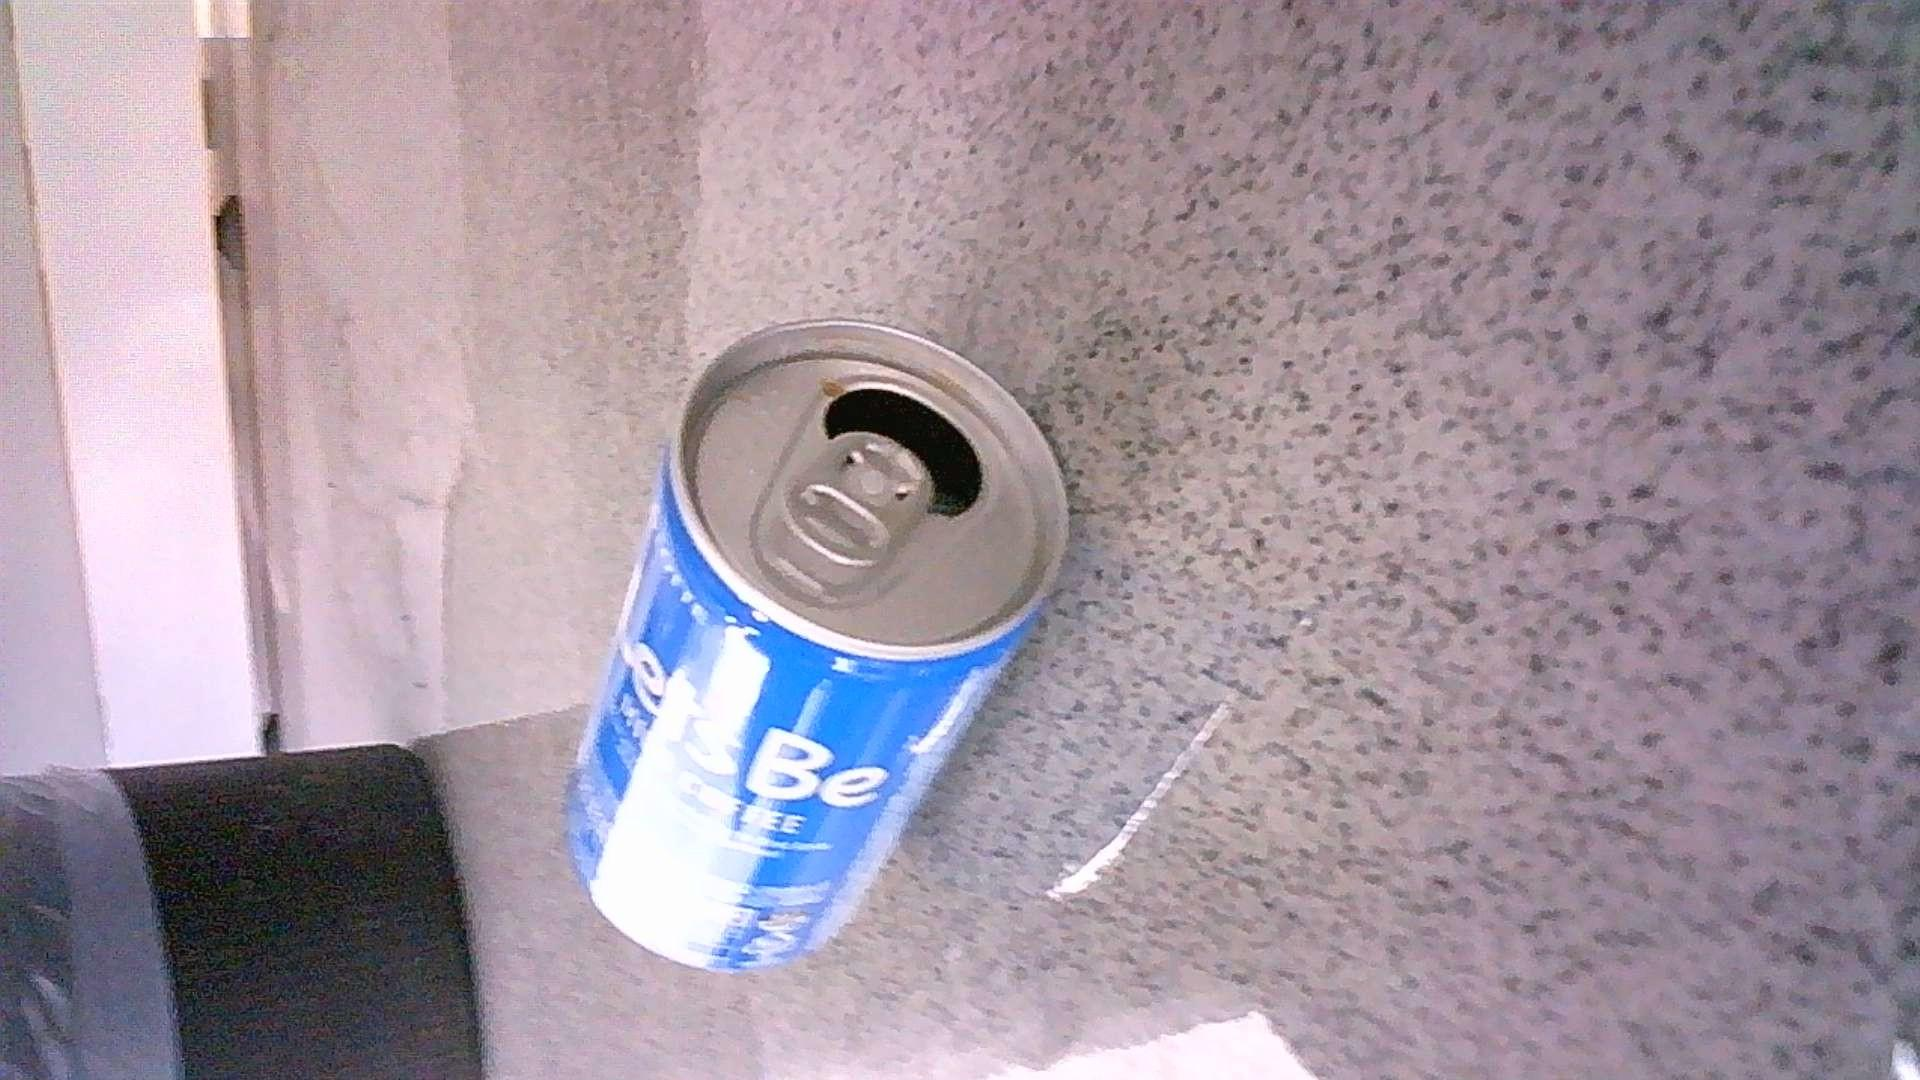letsbe: (566, 315, 1065, 973)
